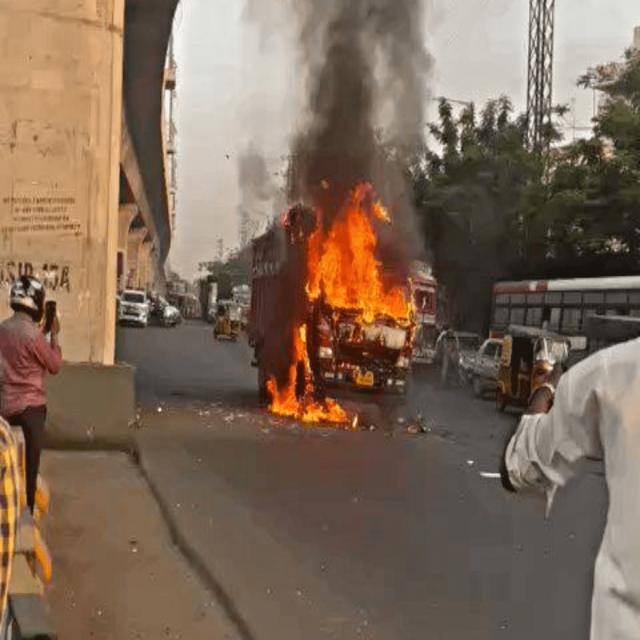accident: (250, 180, 420, 422)
